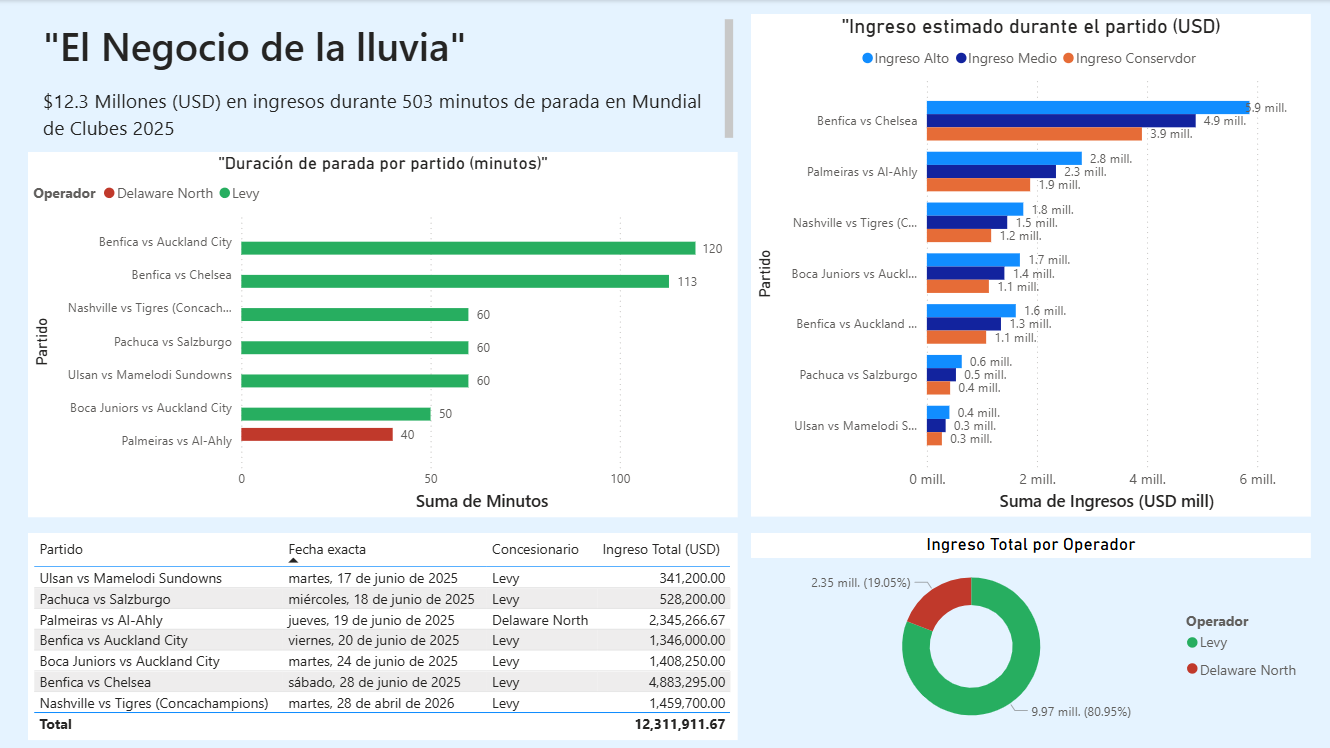

The page's visual inventory and layout, read from the dashboard file:
{"tool":"powerbi","page":{"name":"\"El Negocio\"","canvas":[1280,720],"ordinal":0},"visuals":[{"type":"clusteredBarChart","title":"\"Duración de parada por partido (minutos)\"","fields":{"Category":["Consumo.Partido"],"Y":["Sum(Consumo.Minutos de parada)"],"Series":["Consumo.Operador"]},"box":[28.8,146.1,682.3,350.8],"z":0},{"type":"clusteredBarChart","title":"\"Ingreso estimado durante el partido (USD)","fields":{"Category":["Consumo.Partido"],"Y":["Sum(Consumo.Ingreso_alto)","Sum(Consumo.ingreso_medio)","Sum(Consumo.Ingreso_conservador)"]},"box":[723.6,13.5,538.1,483.4],"z":1000},{"type":"tableEx","fields":{"Values":["Partidos.Partido","Partidos.Fecha exacta","Partidos.Concesionario","Consumo.Ingreso_Total"]},"box":[28.8,512.2,682.3,198.9],"z":2000},{"type":"textbox","box":[38.4,13.5,672.7,124.9],"z":3000},{"type":"donutChart","title":"Ingreso Total por Operador","fields":{"Y":["Consumo.Ingreso_Total"],"Category":["Consumo.Operador"]},"box":[723.6,512.2,538.1,198.9],"z":4000}]}

Visuals, with their boxes in screenshot pixels (x1, y1, x2, y2), scaled from the page's 1280x720 canvas onto the 1330x748 screenshot:
""Duración de parada por partido (minutos)"" clusteredBarChart: rect(30, 152, 739, 516)
""Ingreso estimado durante el partido (USD)" clusteredBarChart: rect(752, 14, 1311, 516)
tableEx - Partidos.Partido x Partidos.Fecha exacta: rect(30, 532, 739, 739)
textbox: rect(40, 14, 739, 144)
"Ingreso Total por Operador" donutChart: rect(752, 532, 1311, 739)
